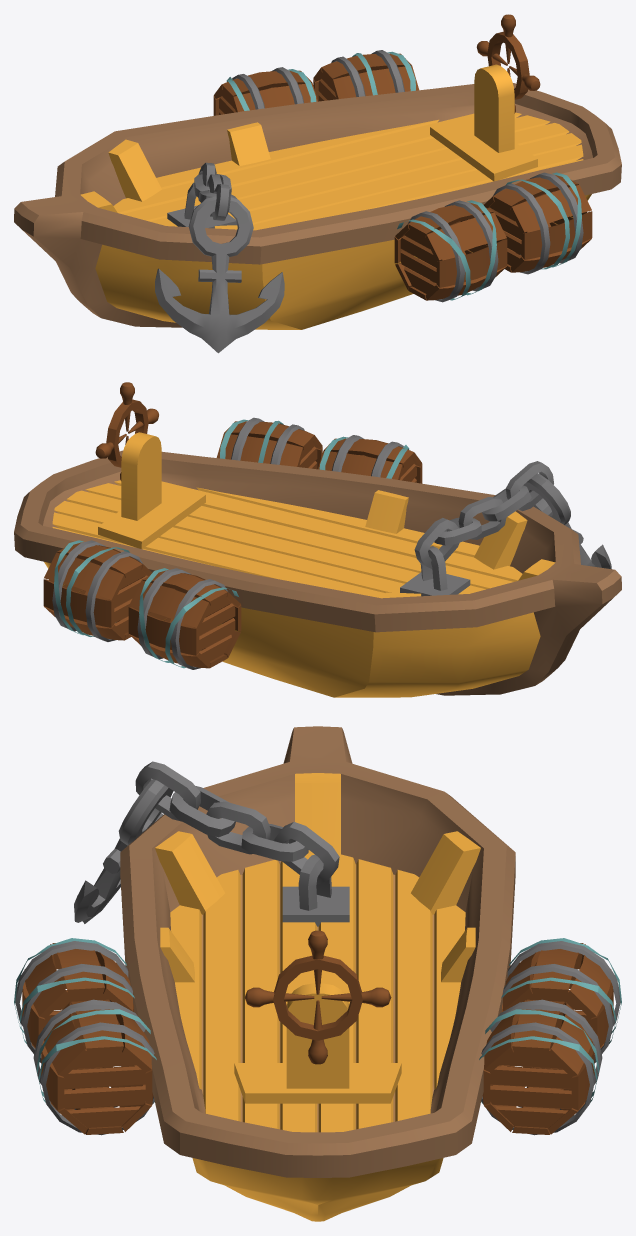
File: Enemy_1_Lander.obj
3 views of the same model, one above another, from view 1: azimuth 30°, elevation 25°; view 2: azimuth 150°, elevation 25°; view 3: azimuth 270°, elevation 25° (orthographic). The views are drawn at different scales.
Visible parts, largest first — view 1: Enemy_1_Lander; view 2: Enemy_1_Lander; view 3: Enemy_1_Lander.
Part boxes in pixels (left/top/right/bottom): Enemy_1_Lander: left=14, top=14, right=621, bottom=353; Enemy_1_Lander: left=14, top=382, right=621, bottom=697; Enemy_1_Lander: left=14, top=726, right=621, bottom=1221.
Bounding box in the file's own units: 5.15 × 1.99 × 3.6.
